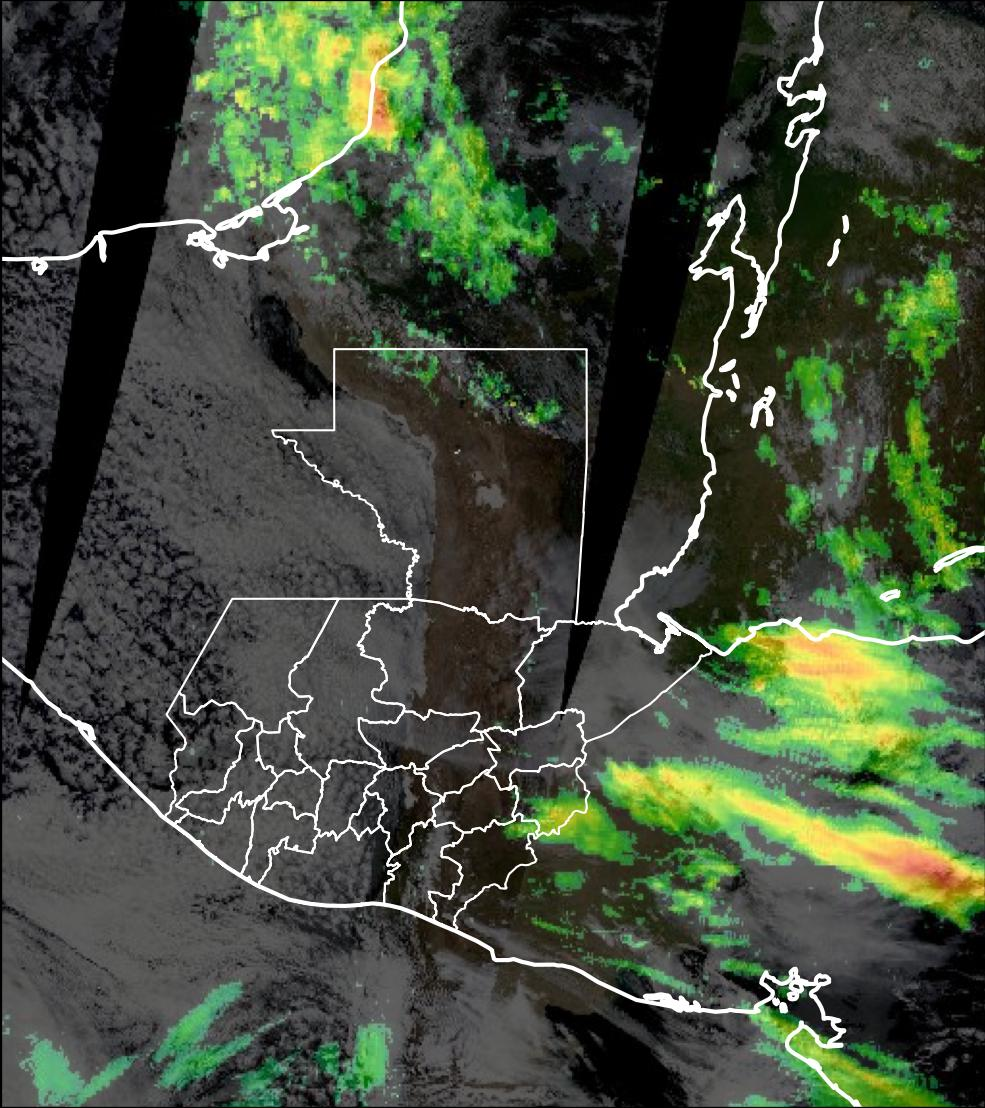precipitacion: (759, 786, 985, 924)
